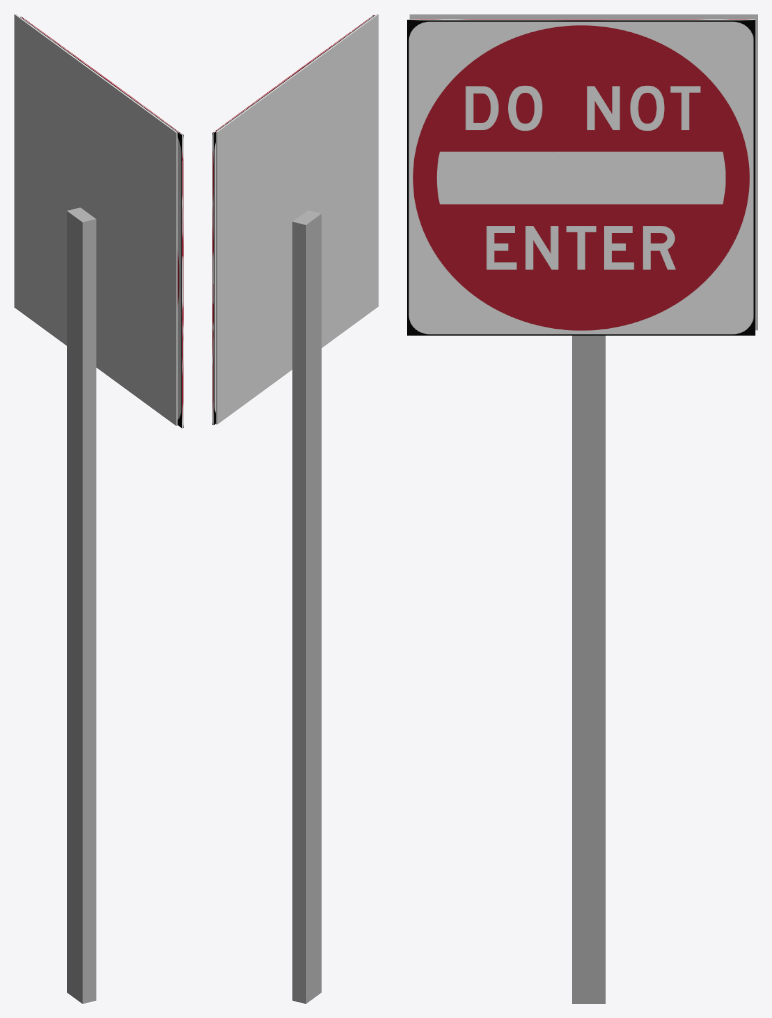
File: do_not_enter.dae
The picture shows the model from 3 angles, left to right: view 1: azimuth 30°, elevation 25°; view 2: azimuth 150°, elevation 25°; view 3: azimuth 270°, elevation 25°; orthographic projection. The views are drawn at different scales.
Visible parts, largest first — view 1: Cube_002, Cube_001, Cube; view 2: Cube_002, Cube_001, Cube; view 3: Cube, Cube_001, Cube_002.
Part boxes in pixels (x1,y1,x2,y2): Cube_002: (14,14,177,425); Cube_001: (67,207,96,1003); Cube: (20,16,183,428); Cube_002: (216,14,378,424); Cube_001: (292,210,321,1003); Cube: (212,14,374,424); Cube: (407,19,755,335); Cube_001: (572,335,605,1003); Cube_002: (409,14,757,330).
Size of the model in its own units: 0.0799 by 0.9209 by 2.88.
